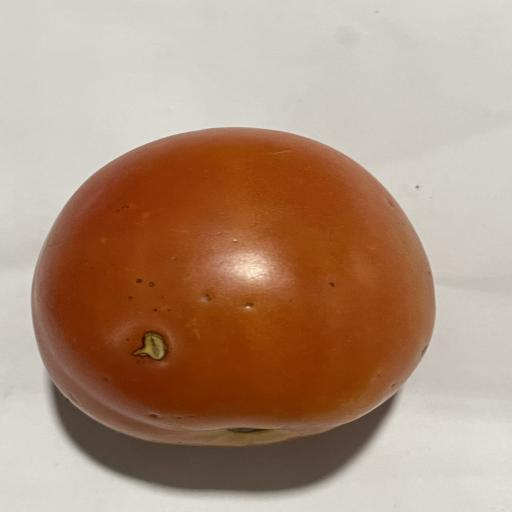ripe: (32, 128, 435, 446)
